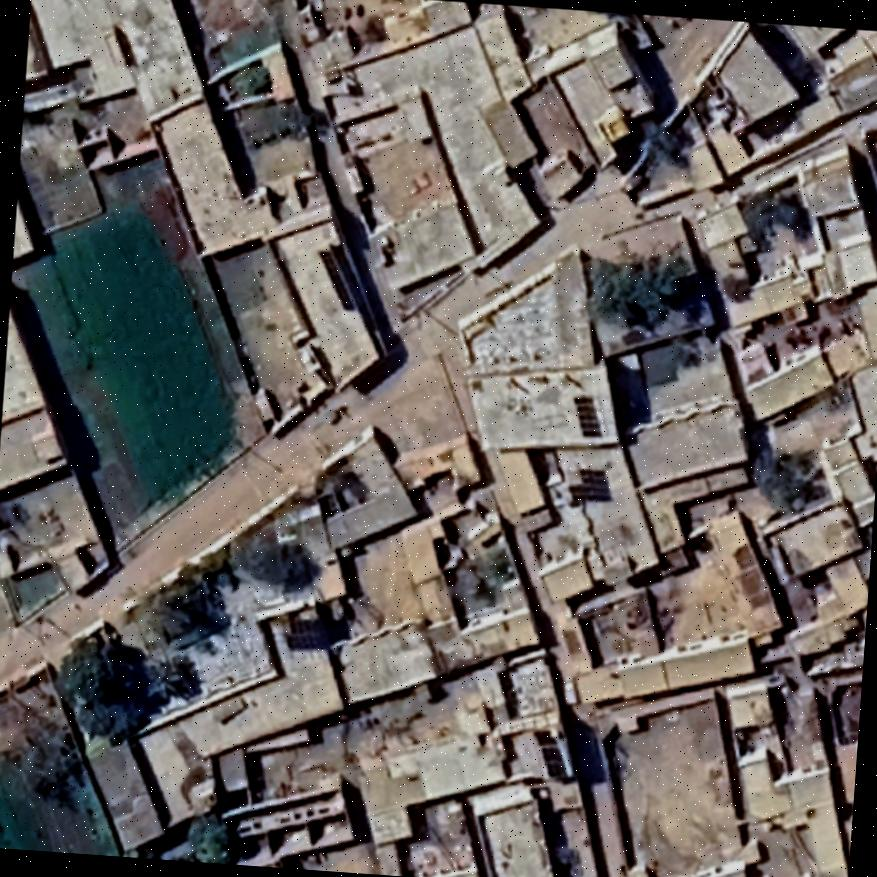Solarpanel: (314, 239, 358, 316), (562, 462, 618, 509), (529, 728, 575, 785), (280, 608, 334, 656), (567, 390, 609, 442)
